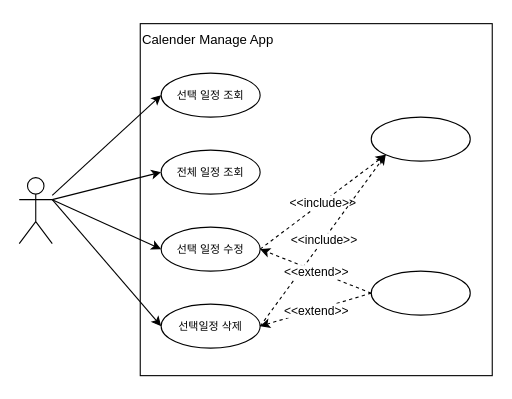
The diagram is 512 pixels wide and 399 high, and some of its shapes have lost their labels. The centre of each missing label's shape, as x and y in pixels:
"사용자" goes at (x=35, y=210).
"실패" goes at (x=420, y=292).
"인증" goes at (x=420, y=138).
